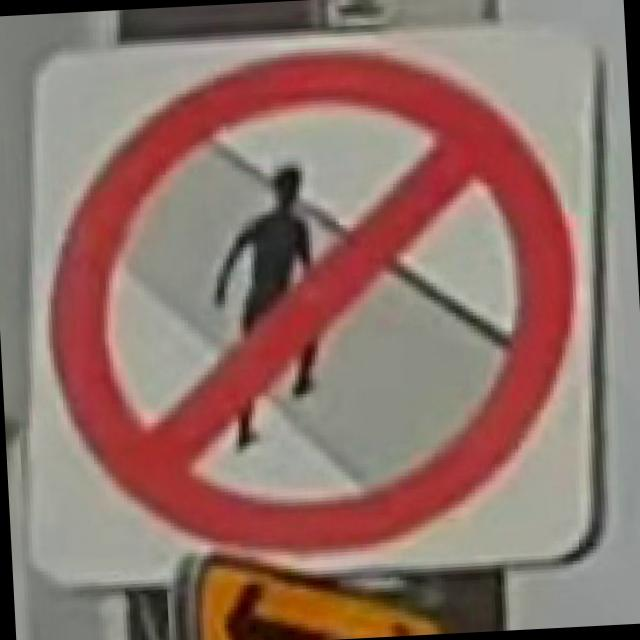nojaywalking_sign: (6, 17, 615, 593)
